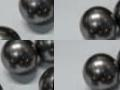ironball: (78, 53, 118, 90), (1, 40, 39, 77), (78, 4, 115, 40), (17, 0, 54, 29), (0, 22, 28, 40), (35, 40, 53, 63), (38, 65, 54, 89)
